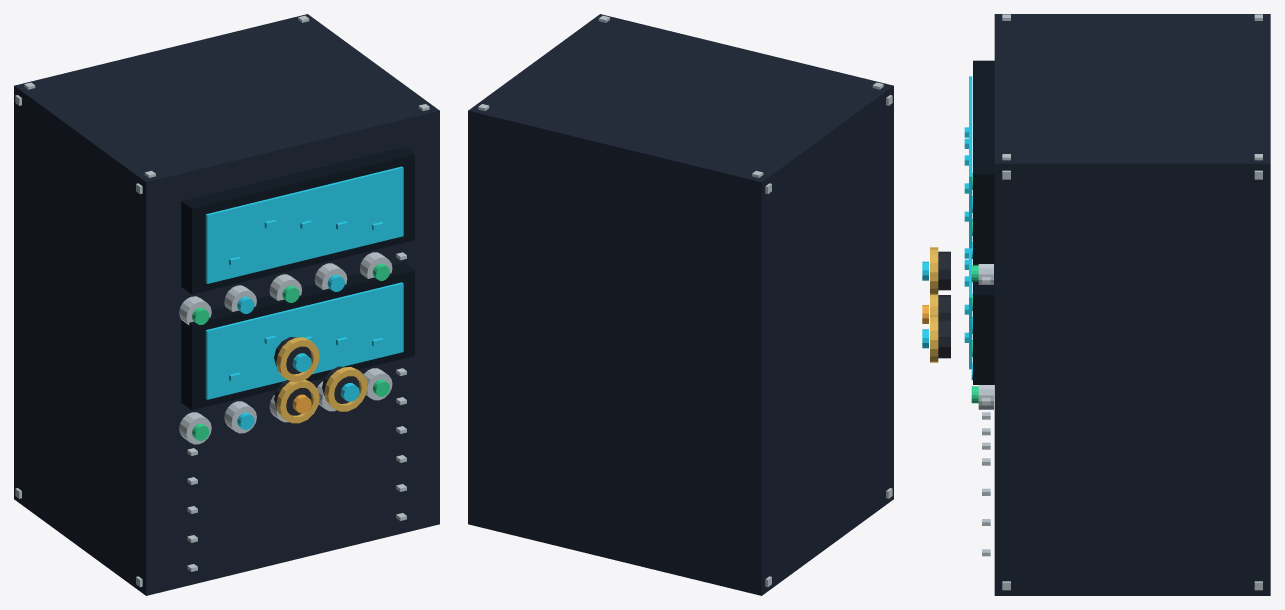
File: 32_L82_SpectralCalibrationReferenceSource.fbx
The picture shows the model from 3 angles, left to right: view 1: azimuth 30°, elevation 25°; view 2: azimuth 150°, elevation 25°; view 3: azimuth 270°, elevation 25°; orthographic projection. The views are drawn at different scales.
Parts seen in each view (by area): view 1: SpectralCalibrationReferenceSource; view 2: SpectralCalibrationReferenceSource; view 3: SpectralCalibrationReferenceSource.
Part boxes in pixels (x1=…): SpectralCalibrationReferenceSource: x1=14, y1=14, x2=439, y2=595; SpectralCalibrationReferenceSource: x1=468, y1=14, x2=893, y2=595; SpectralCalibrationReferenceSource: x1=922, y1=14, x2=1270, y2=595.
Size of the model in its own units: 106 by 142 by 102.
